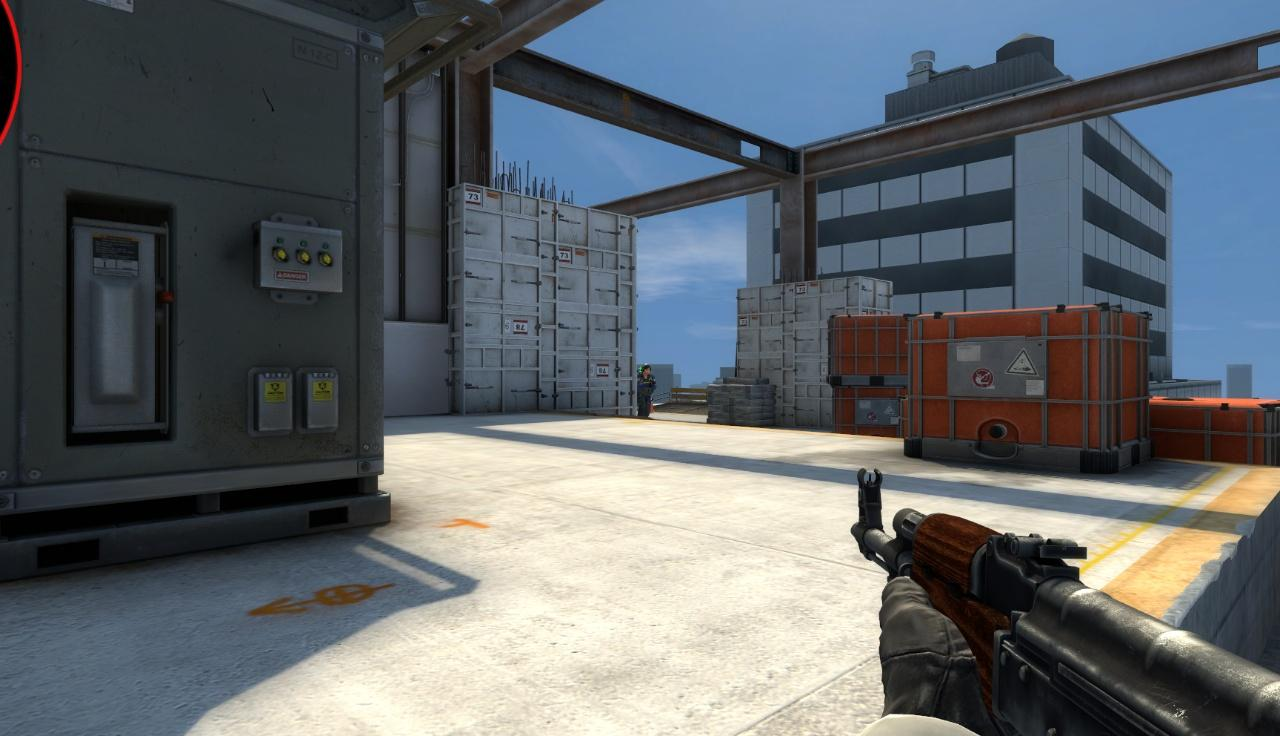ct: (636, 363, 656, 417)
cthead: (642, 363, 651, 376)
rifle: (849, 471, 1280, 734)
